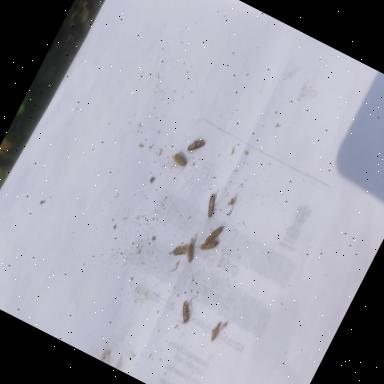pbw: (197, 192, 223, 228), (163, 149, 191, 180), (196, 230, 221, 256), (174, 300, 196, 326), (180, 237, 200, 263), (204, 223, 224, 248), (186, 135, 206, 158)
